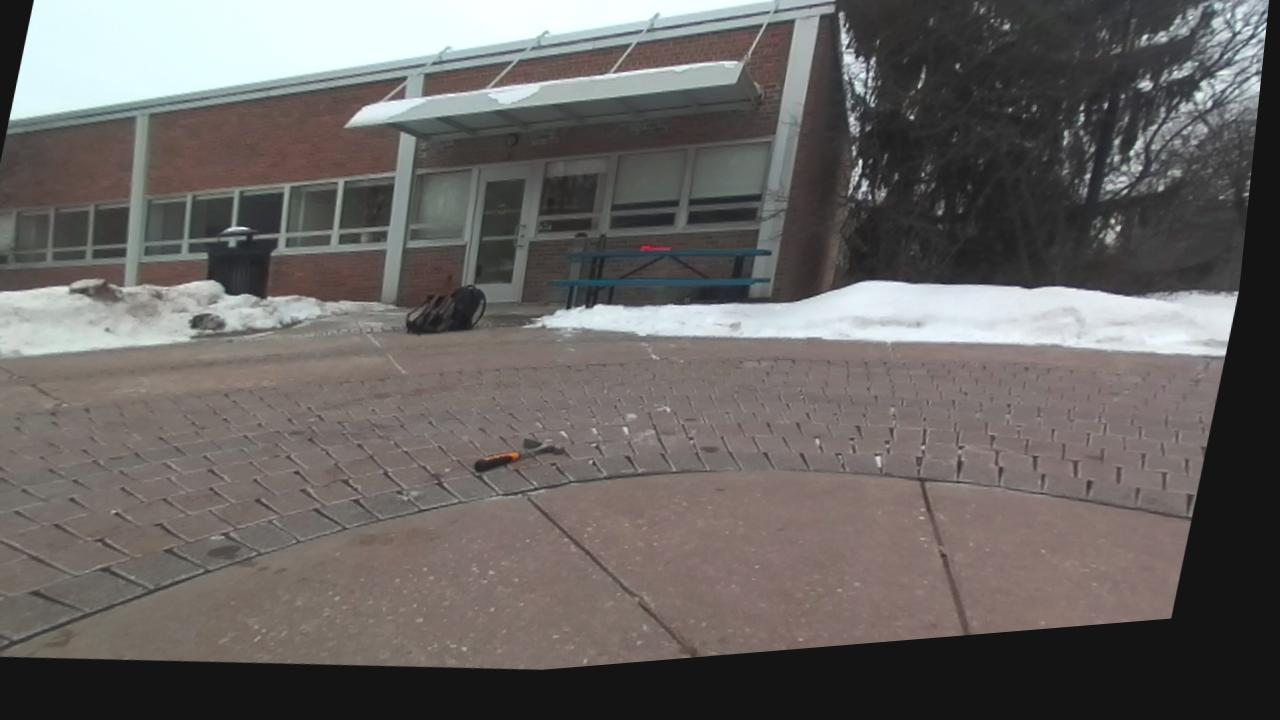mallet: (641, 245, 670, 250)
pick: (474, 437, 565, 471)
